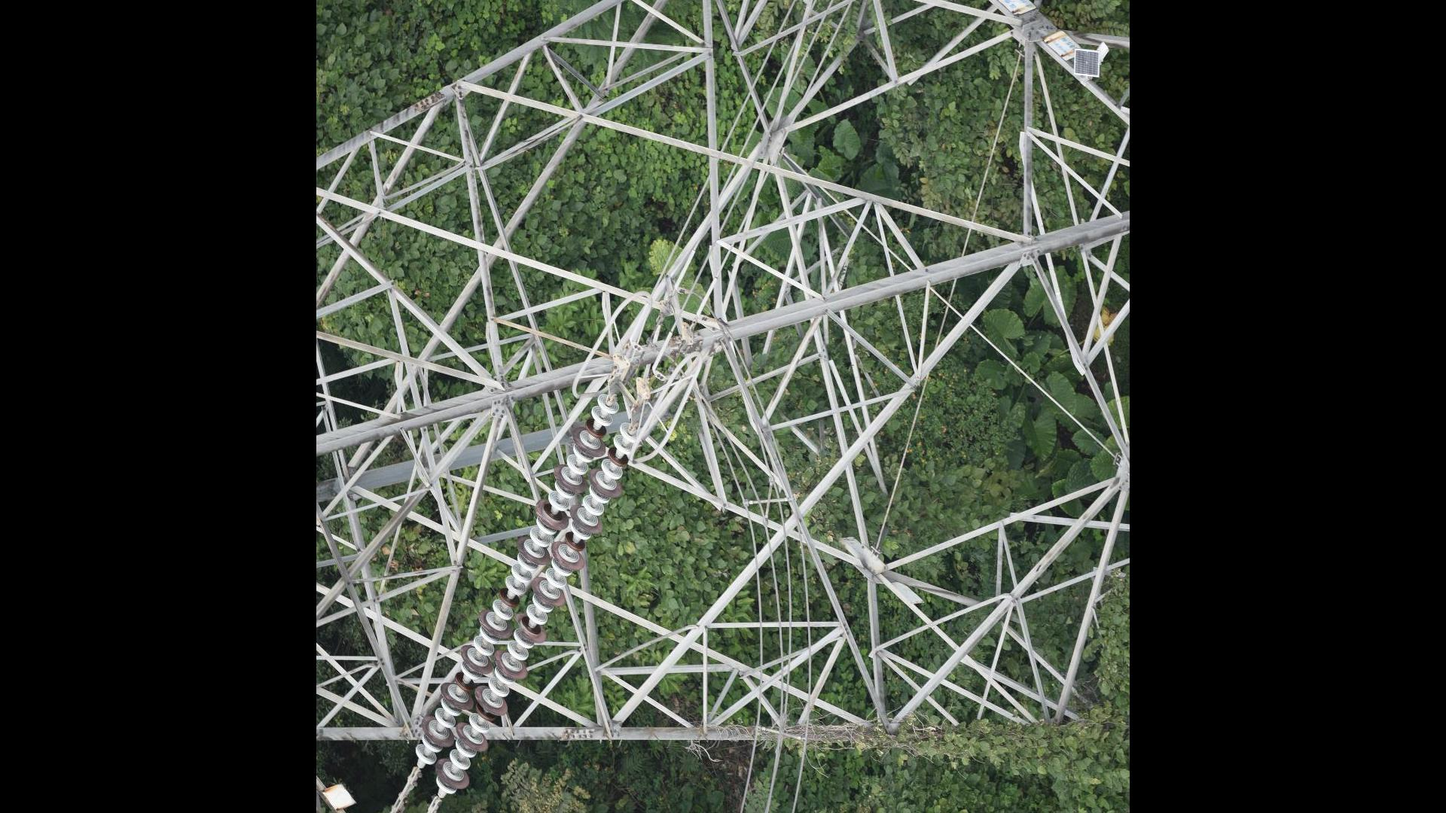insulator: (413, 388, 640, 796)
